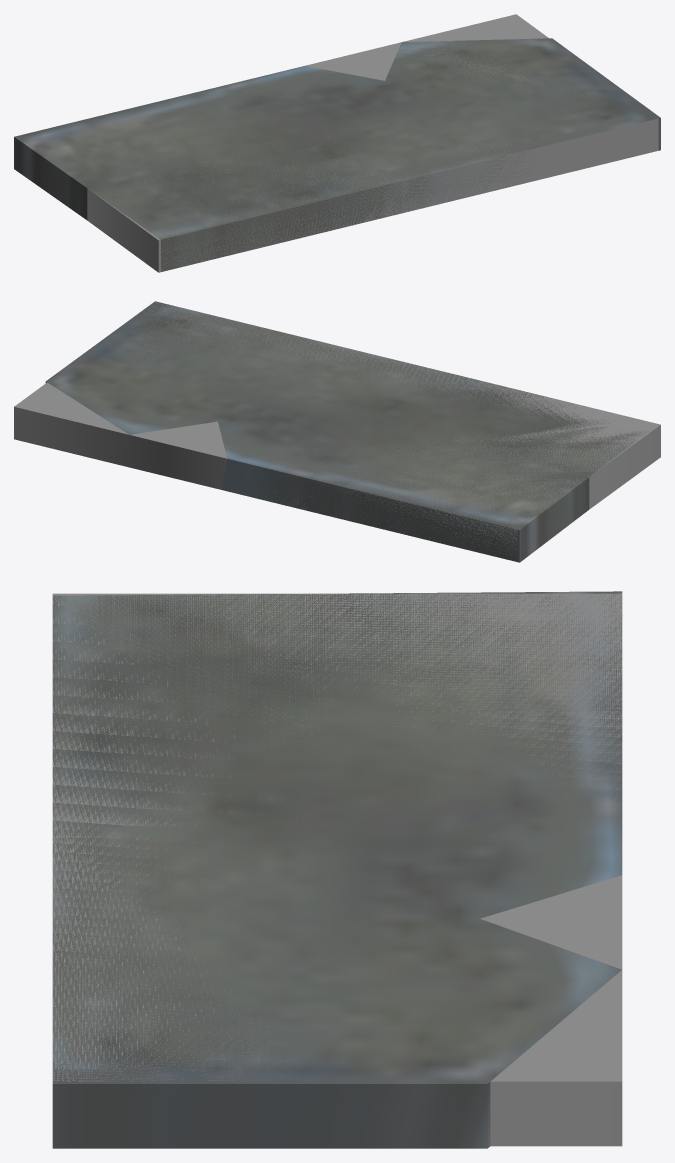
File: Scene_Object_TianShan_DiMianzhuan_4.FBX
The picture shows the model from 3 angles, top to bottom: view 1: azimuth 30°, elevation 25°; view 2: azimuth 150°, elevation 25°; view 3: azimuth 270°, elevation 25°; orthographic projection. The views are drawn at different scales.
Visible parts, largest first — view 1: Scene_Object_TianShan_DiMianzhuan_4, Scene_Object_TianShan_DiMianzhuan_4_Xzm; view 2: Scene_Object_TianShan_DiMianzhuan_4, Scene_Object_TianShan_DiMianzhuan_4_Xzm; view 3: Scene_Object_TianShan_DiMianzhuan_4, Scene_Object_TianShan_DiMianzhuan_4_Xzm.
Part boxes in pixels (x1,y1,x2,y2): Scene_Object_TianShan_DiMianzhuan_4: (14,38,660,271); Scene_Object_TianShan_DiMianzhuan_4_Xzm: (87,14,658,272); Scene_Object_TianShan_DiMianzhuan_4: (45,301,648,562); Scene_Object_TianShan_DiMianzhuan_4_Xzm: (14,303,660,554); Scene_Object_TianShan_DiMianzhuan_4: (52,591,622,1148); Scene_Object_TianShan_DiMianzhuan_4_Xzm: (52,593,622,1146).
Bounding box in the file's own units: 61.47 × 3.77 × 30.06.
